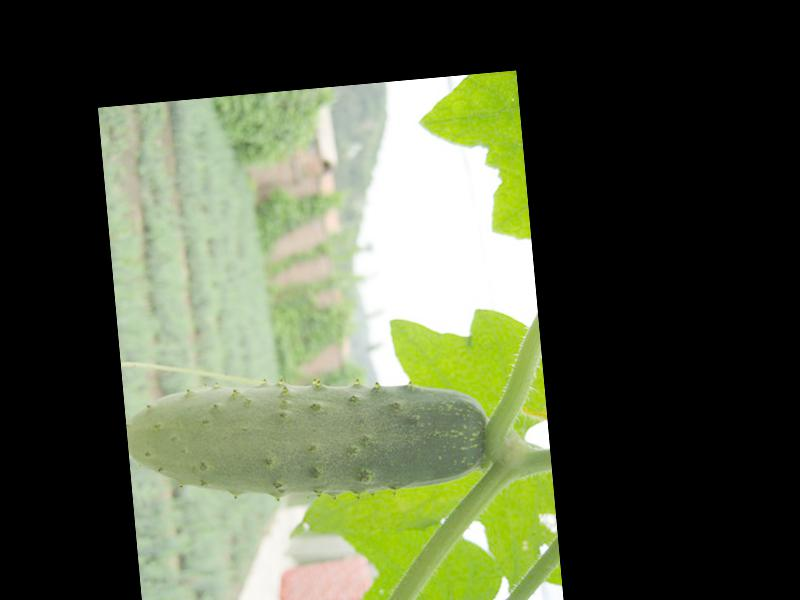Cucumber: (124, 365, 491, 512)
